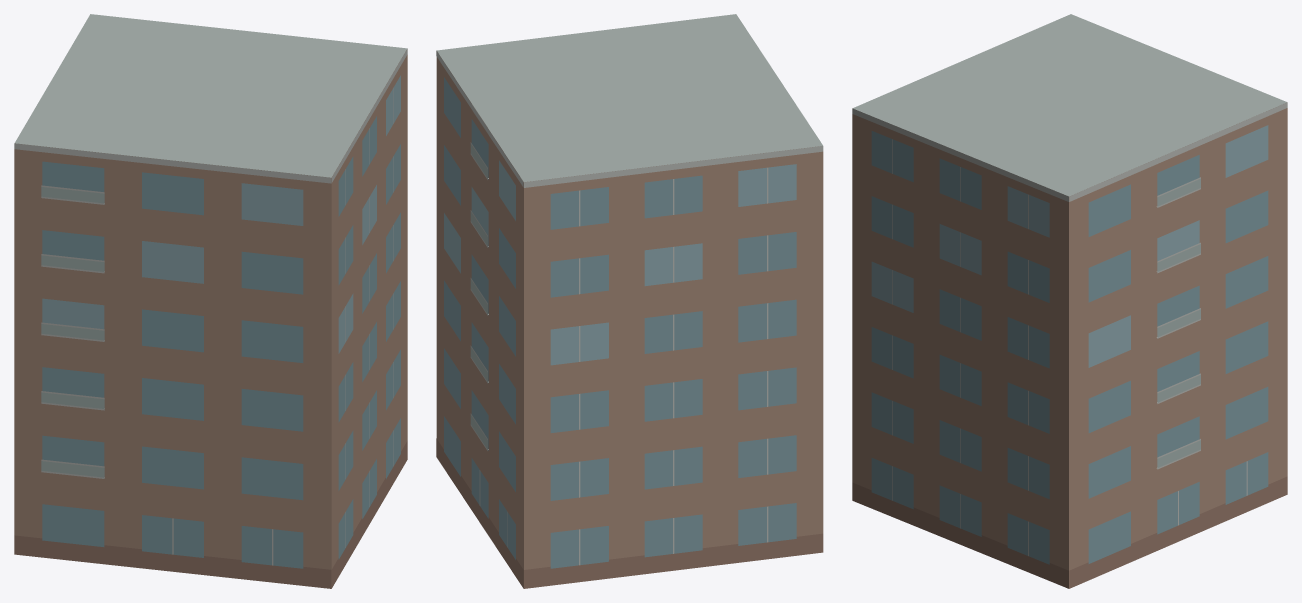
File: survey-upis-32948708.glb
3 views of the same model, side by side, from view 1: azimuth 30°, elevation 25°; view 2: azimuth 150°, elevation 25°; view 3: azimuth 270°, elevation 25° (orthographic). The views are drawn at different scales.
Visible parts, largest first — view 1: survey-upis-32948708.tmp; view 2: survey-upis-32948708.tmp; view 3: survey-upis-32948708.tmp.
Part boxes in pixels (box(x1,y1,x2,y2)): survey-upis-32948708.tmp: box(14, 14, 407, 588); survey-upis-32948708.tmp: box(436, 14, 823, 588); survey-upis-32948708.tmp: box(852, 14, 1287, 588).
Bounding box in the file's own units: 16.97 × 17 × 17.09.
